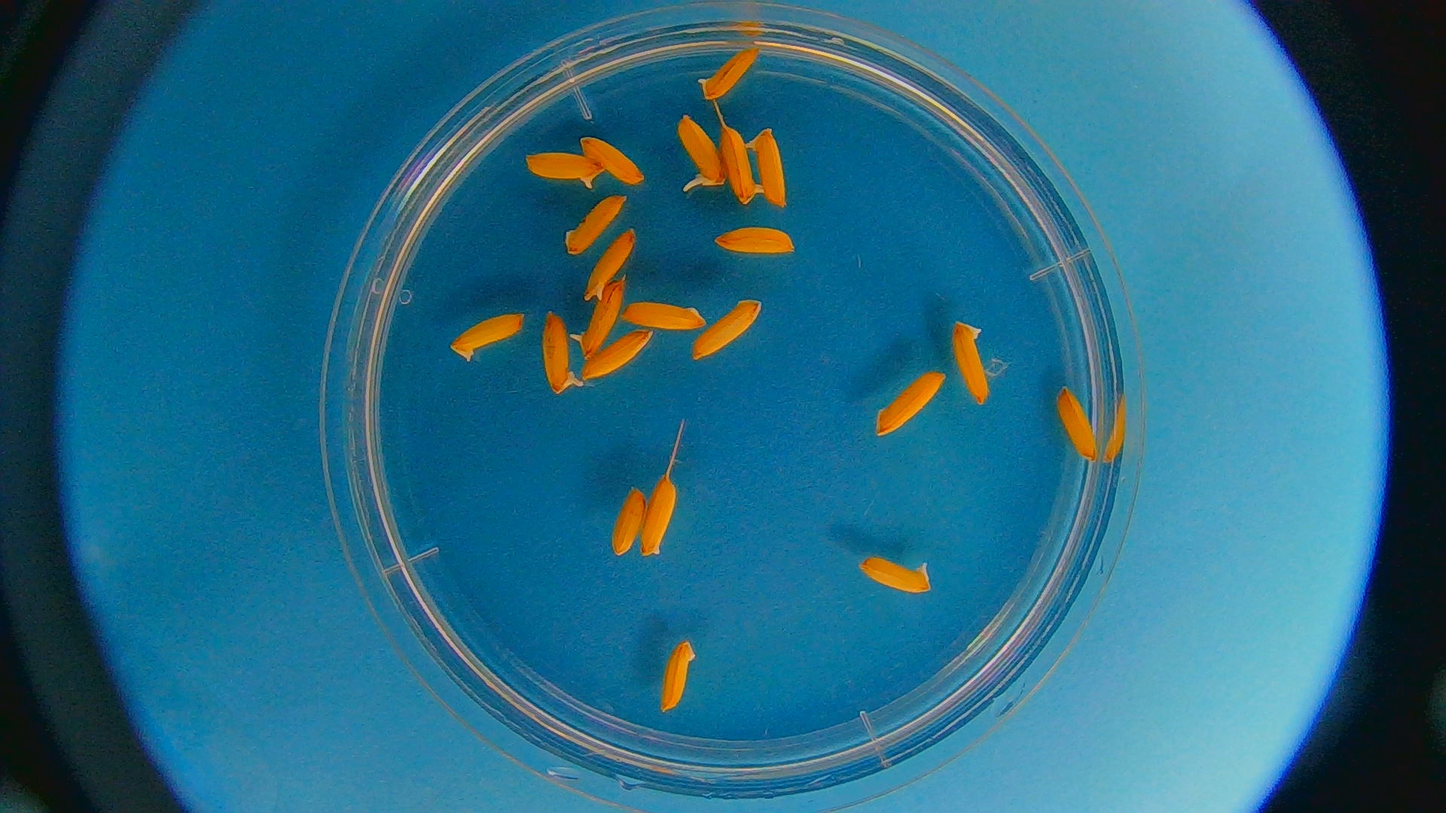no: (877, 370, 945, 437), (690, 300, 763, 360), (565, 196, 627, 257), (587, 231, 636, 300), (451, 314, 526, 359), (952, 318, 991, 402), (700, 46, 761, 99), (636, 477, 676, 557), (584, 332, 653, 378), (1054, 387, 1095, 461), (582, 136, 643, 184), (860, 556, 934, 595), (658, 640, 695, 713), (619, 299, 705, 329), (714, 224, 795, 254), (614, 488, 647, 556)
yes: (571, 279, 628, 360), (720, 121, 762, 206), (678, 116, 724, 193), (744, 127, 787, 209), (542, 312, 581, 394), (526, 151, 606, 190)
